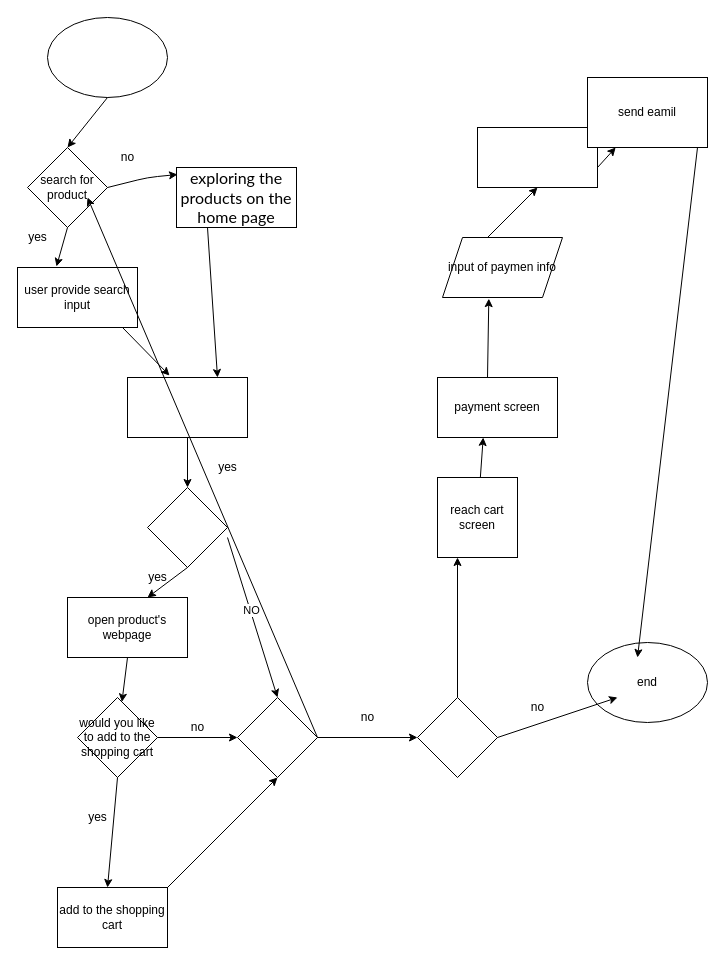
This 725x965 diagram has some shape labels left out. The centre of each missing label's shape, as x and y in pixels:
chechout: (457,737)
continue shopping: (277,737)
enter website: (107,57)
order comfirmation: (537,157)
user look over the products: (187,407)
view a specific product: (187,527)
